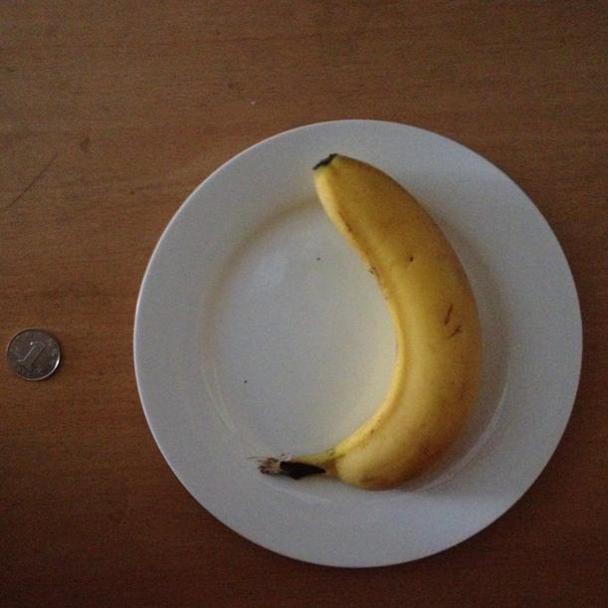banana: (298, 153, 484, 482)
